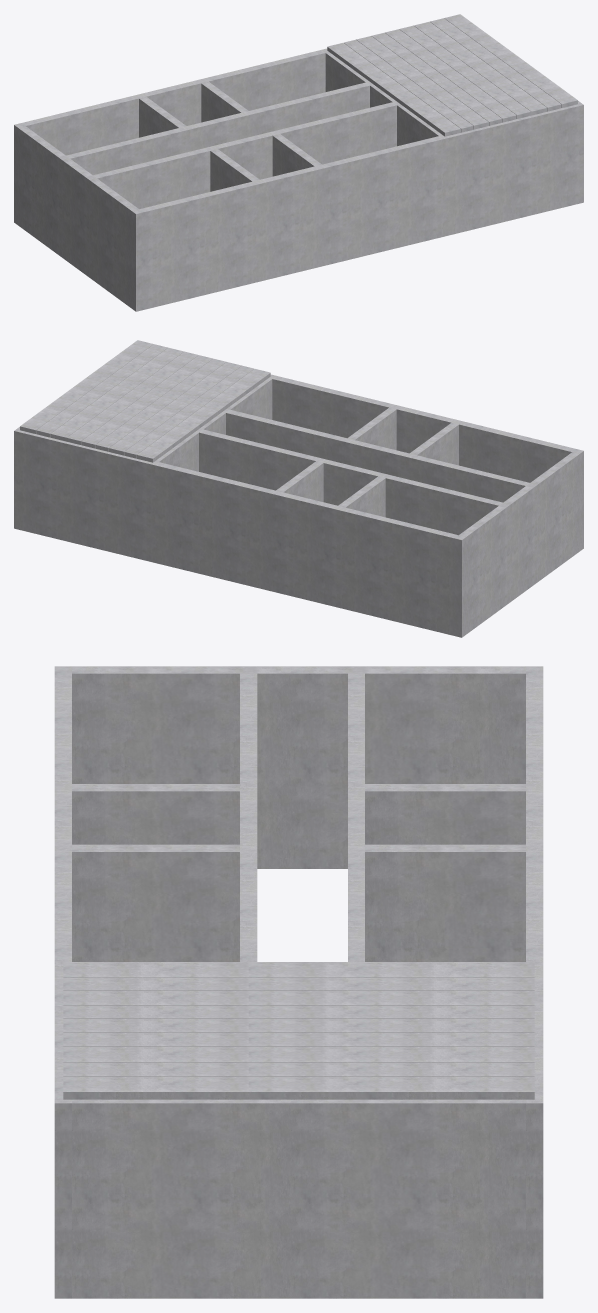
The model's file is longitudinal.glb.
3 views of the same model, one above another, from view 1: azimuth 30°, elevation 25°; view 2: azimuth 150°, elevation 25°; view 3: azimuth 270°, elevation 25° (orthographic). The views are drawn at different scales.
Parts seen in each view (by area): view 1: 墙体, 楼板; view 2: 墙体, 楼板; view 3: 墙体, 楼板.
Part boxes in pixels (x1,y1,x2,y2): 墙体: [14, 48, 583, 311]; 楼板: [327, 14, 577, 136]; 墙体: [14, 374, 583, 637]; 楼板: [20, 340, 270, 462]; 墙体: [54, 666, 543, 1298]; 楼板: [63, 962, 534, 1099].
Bounding box in the file's own units: 14.4 × 3.12 × 6.8.
Materials: 2 (2 with a texture image).
